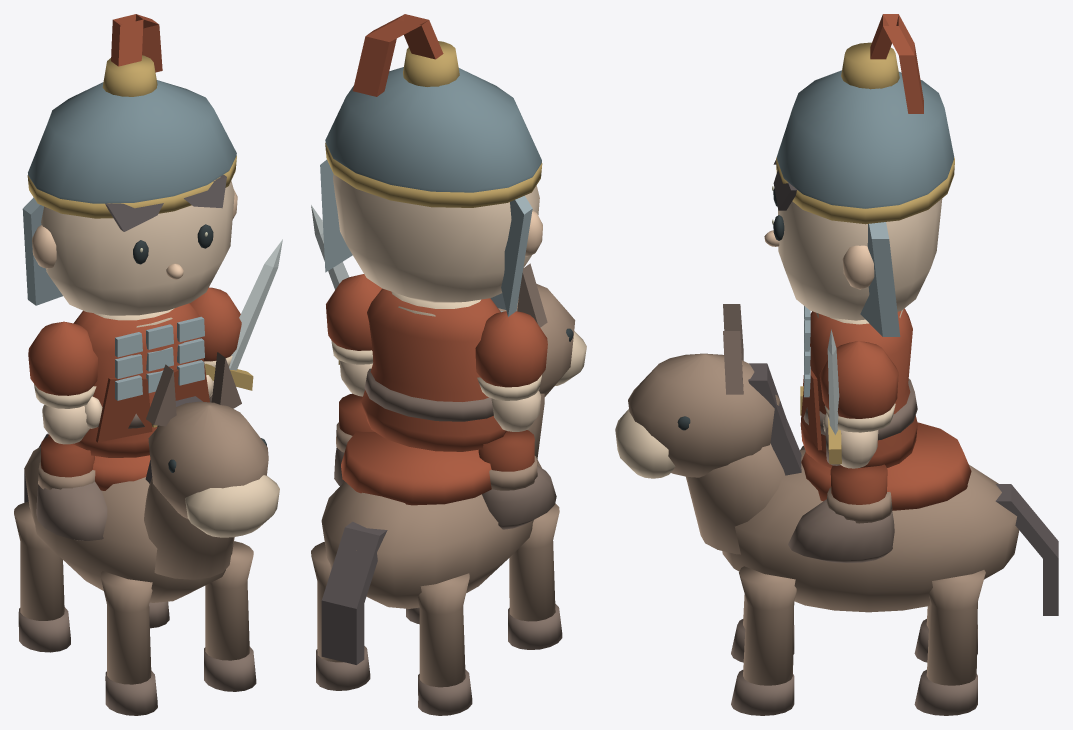
File: rider.glb
3 renders of one model, left to right at view 1: azimuth 30°, elevation 25°; view 2: azimuth 150°, elevation 25°; view 3: azimuth 270°, elevation 25°, orthographic. The views are drawn at different scales.
Parts seen in each view (by area): view 1: Regional helmet, Soft cheek head, Pony head, Plump pony body, Short folded tunic, Pony neck, Pony stubby leg, Pony stubby leg.001, Puff sleeve, Pony muzzle, Pony stubby leg.002, Round leather boot (+33 smaller); view 2: Regional helmet, Soft cheek head, Short folded tunic, Plump pony body, Saddle blanket, Pony tail, Pony stubby leg.002, Puff sleeve, Pony stubby leg, Red silk tassel, Helmet brow band, Puff sleeve.001 (+22 smaller); view 3: Plump pony body, Regional helmet, Pony head, Soft cheek head, Pony neck, Saddle blanket, Short folded tunic, Pony stubby leg.001, Pony stubby leg.003, Round leather boot.001, Puff sleeve.001, Han side guard.001 (+17 smaller).
Part boxes in pixels (x1,y1,x2,y2): Regional helmet: [28, 80, 236, 203]; Soft cheek head: [41, 181, 234, 315]; Pony head: [148, 401, 268, 519]; Plump pony body: [24, 446, 234, 602]; Short folded tunic: [73, 303, 199, 457]; Pony neck: [144, 477, 233, 579]; Pony stubby leg: [100, 571, 152, 684]; Pony stubby leg.001: [205, 541, 253, 660]; Puff sleeve: [28, 321, 97, 395]; Pony muzzle: [185, 475, 279, 537]; Pony stubby leg.002: [14, 501, 64, 620]; Round leather boot: [36, 481, 107, 540]; Regional helmet: [325, 67, 541, 192]; Soft cheek head: [333, 174, 539, 302]; Short folded tunic: [361, 288, 506, 451]; Plump pony body: [321, 458, 541, 608]; Saddle blanket: [341, 431, 491, 505]; Pony tail: [321, 521, 387, 664]; Pony stubby leg.002: [417, 573, 469, 687]; Puff sleeve: [475, 311, 547, 387]; Pony stubby leg: [509, 503, 559, 621]; Red silk tassel: [353, 14, 443, 96]; Helmet brow band: [325, 143, 542, 207]; Puff sleeve.001: [326, 274, 381, 350]; Plump pony body: [722, 449, 1019, 612]; Regional helmet: [777, 70, 954, 208]; Pony head: [628, 353, 779, 477]; Soft cheek head: [778, 198, 942, 320]; Pony neck: [686, 443, 785, 554]; Saddle blanket: [801, 422, 971, 510]; Short folded tunic: [800, 308, 917, 467]; Pony stubby leg.001: [739, 566, 796, 685]; Pony stubby leg.003: [926, 570, 985, 685]; Round leather boot.001: [788, 499, 894, 563]; Puff sleeve.001: [819, 341, 898, 418]; Han side guard.001: [860, 222, 900, 336].
Bounding box in the file's own units: 0.9142 × 2.31 × 1.4.
